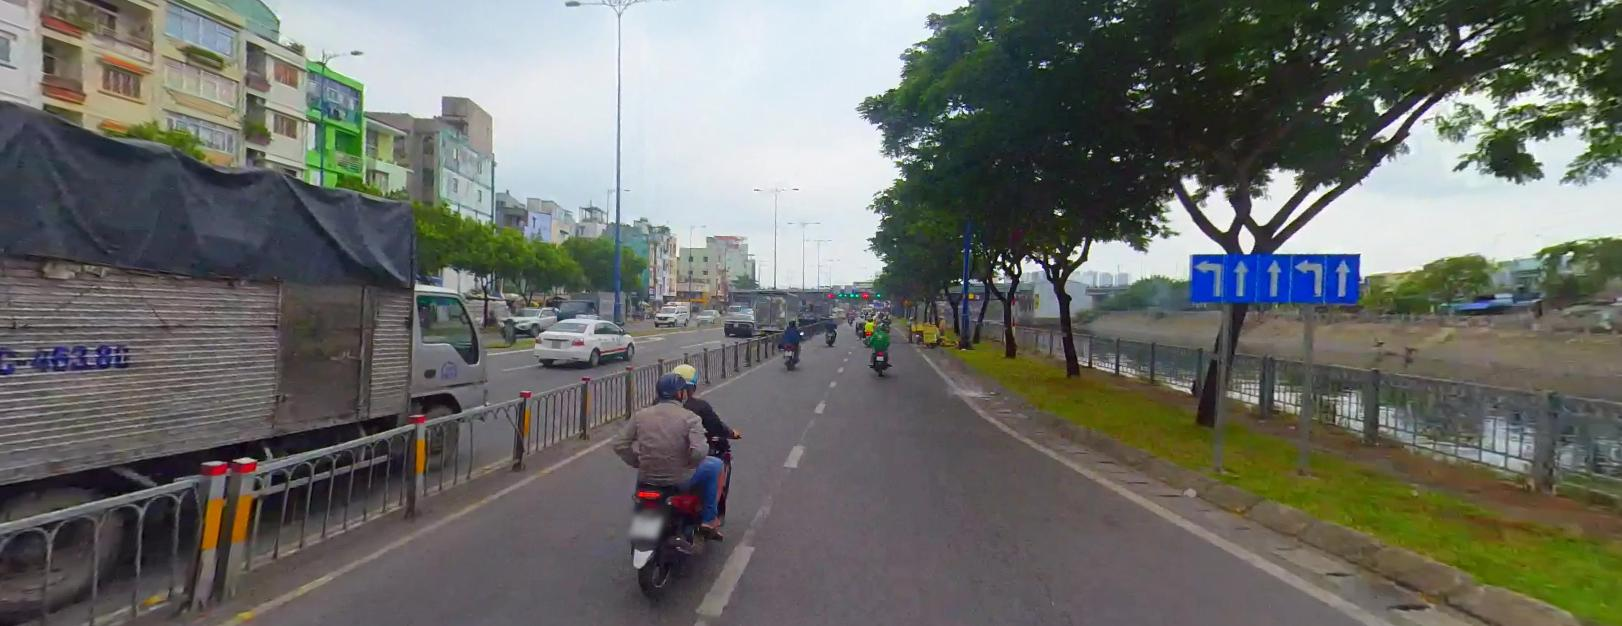Nguy hiem: (901, 297, 909, 304)
